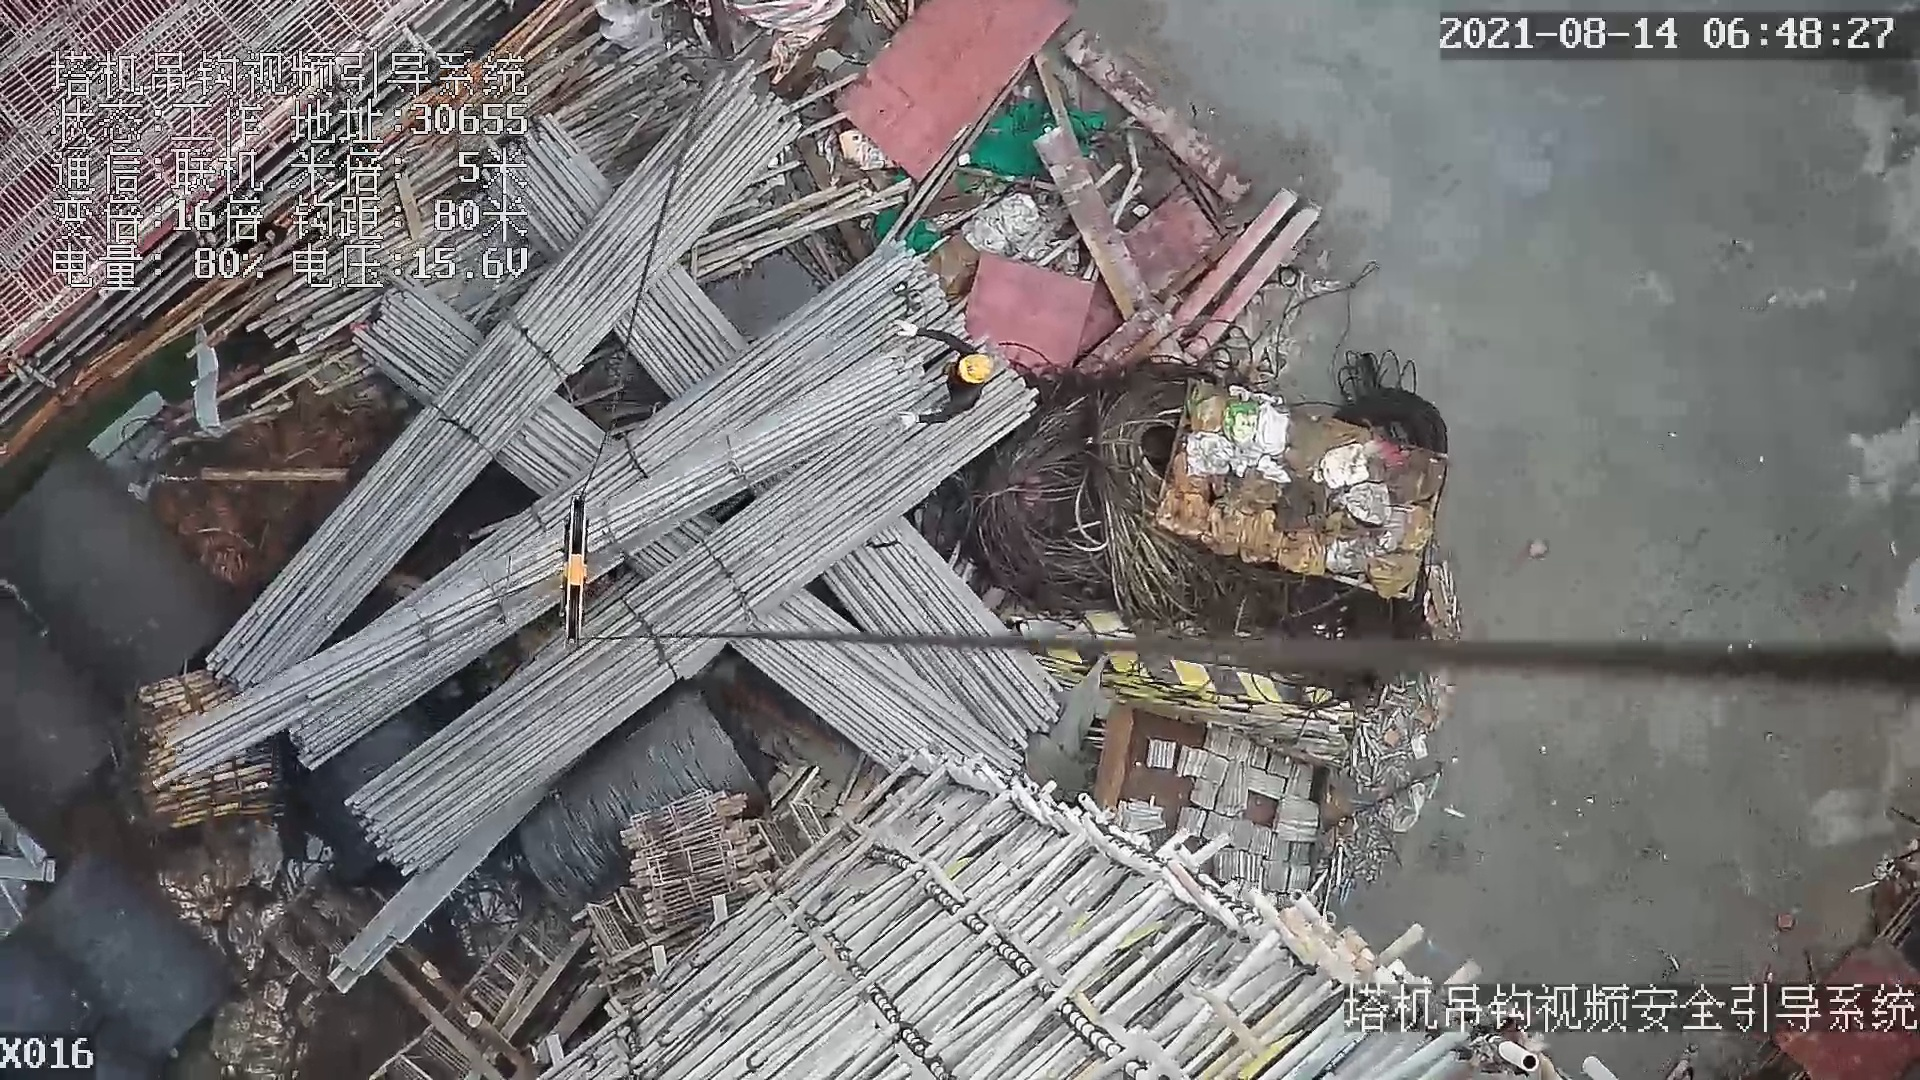board: (838, 1, 1071, 185)
helmet: (959, 349, 1001, 385)
hook: (555, 487, 599, 636)
person: (882, 309, 996, 435)
scaffold: (125, 674, 284, 853)
